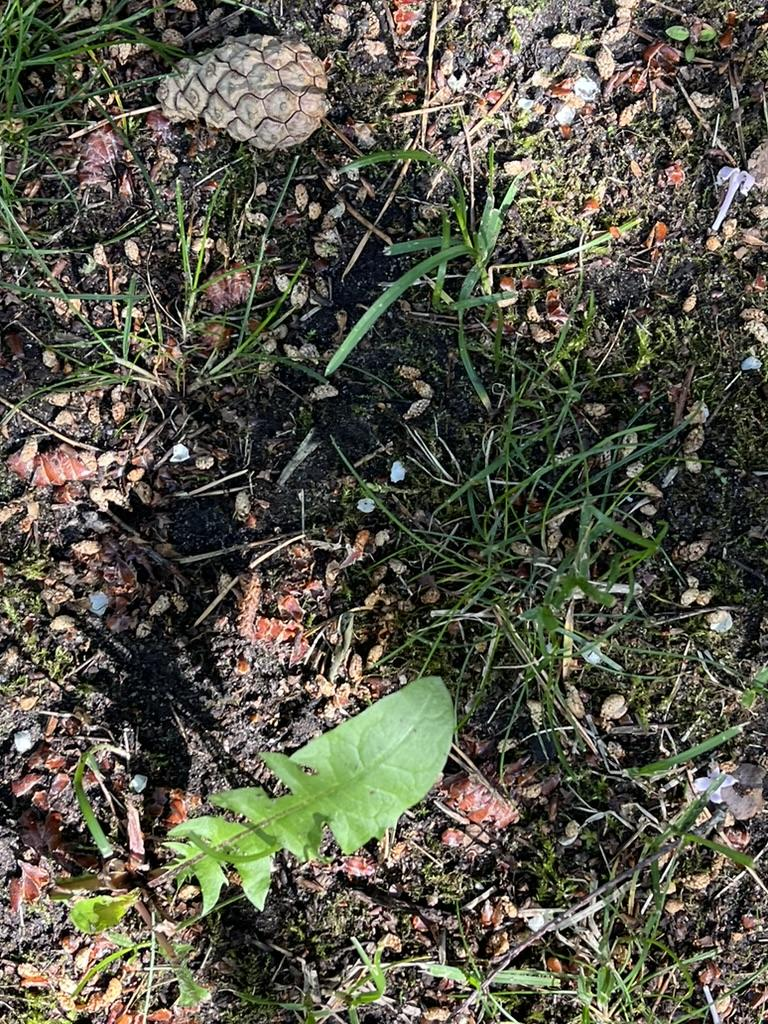pine: (146, 23, 346, 166)
